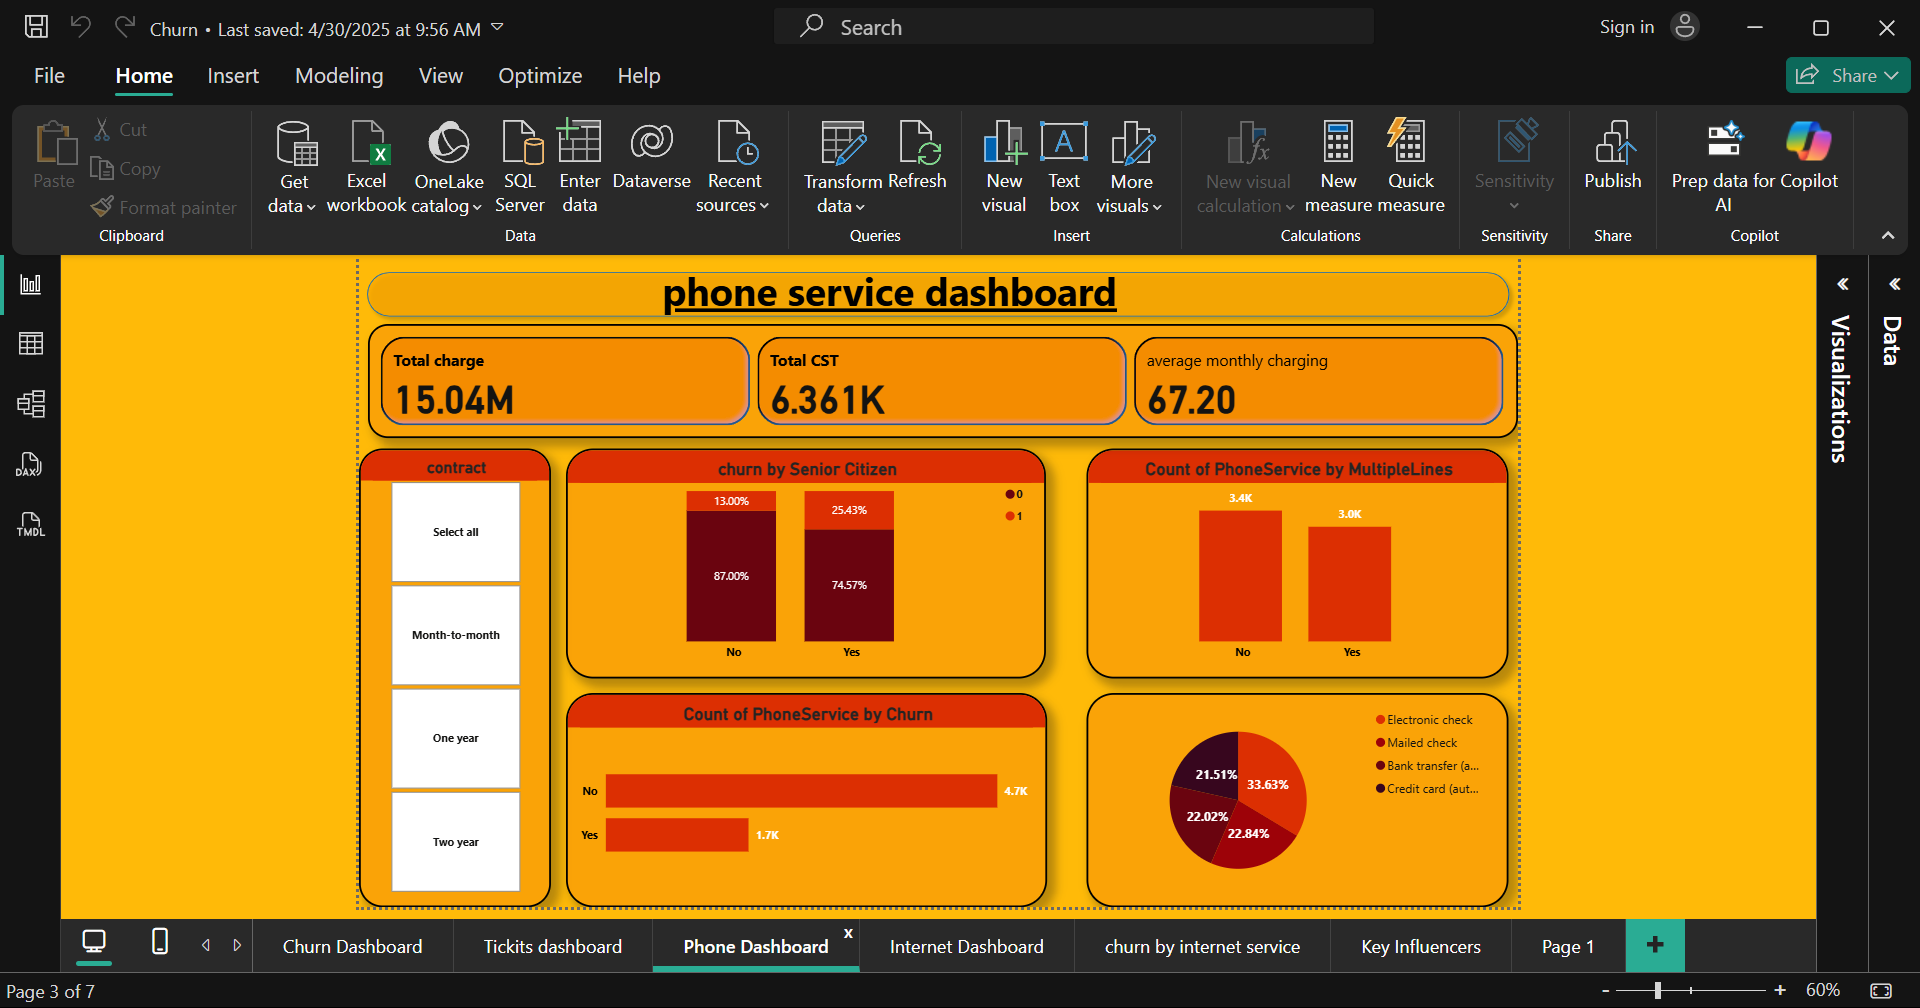

Layout of this report page (visuals, bound fields, positions):
{"tool":"powerbi","page":{"name":"Phone Dashboard","canvas":[1280,720],"ordinal":2},"visuals":[{"type":"clusteredColumnChart","fields":{"Category":["01 Churn-Dataset.MultipleLines"],"Y":["CountNonNull(01 Churn-Dataset.PhoneService)"]},"box":[804.2,213.5,466,254],"z":0},{"type":"pieChart","fields":{"Category":["01 Churn-Dataset.PaymentMethod"],"Y":["CountNonNull(01 Churn-Dataset.PhoneService)"]},"box":[804.2,483.1,466,236.9],"z":1000},{"type":"clusteredBarChart","fields":{"Category":["01 Churn-Dataset.Churn"],"Y":["CountNonNull(01 Churn-Dataset.PhoneService)"]},"box":[229.1,483.1,531.4,236.9],"z":2000},{"type":"shape","box":[0,9.4,1279.5,67],"z":3000},{"type":"cardVisual","fields":{"Data":["Sum(01 Churn-Dataset.TotalCharges)","Count(01 Churn-Dataset.customerID)","Avg(01 Churn-Dataset.MonthlyCharges)"]},"box":[9.4,76.4,1270.1,126.2],"z":4000},{"type":"textbox","box":[0,4.7,1171.9,71.7],"z":5000},{"type":"hundredPercentStackedColumnChart","title":"churn by Senior Citizen","fields":{"Category":["01 Churn-Dataset.Churn"],"Y":["CountNonNull(01 Churn-Dataset.SeniorCitizen)"],"Series":["01 Churn-Dataset.SeniorCitizen"]},"box":[229.1,213.5,529.9,254],"z":6000},{"type":"slicer","title":"contract","fields":{"Values":["01 Churn-Dataset.Contract"]},"box":[0,213.5,211.9,506.5],"z":7000}]}

Visuals, with their boxes on the page's 1280x720 design canvas (x1, y1, x2, y2). These are canvas units, not pixel positions in the 1920x1008 screenshot, which may show the page scaled, cropped or inside an application window:
clusteredColumnChart - 01 Churn-Dataset.MultipleLines x CountNonNull(01 Churn-Dataset.PhoneService): left=804, top=214, right=1270, bottom=468
pieChart - 01 Churn-Dataset.PaymentMethod x CountNonNull(01 Churn-Dataset.PhoneService): left=804, top=483, right=1270, bottom=720
clusteredBarChart - 01 Churn-Dataset.Churn x CountNonNull(01 Churn-Dataset.PhoneService): left=229, top=483, right=760, bottom=720
shape: left=0, top=9, right=1280, bottom=76
cardVisual - Sum(01 Churn-Dataset.TotalCharges) x Count(01 Churn-Dataset.customerID): left=9, top=76, right=1280, bottom=203
textbox: left=0, top=5, right=1172, bottom=76
"churn by Senior Citizen" hundredPercentStackedColumnChart: left=229, top=214, right=759, bottom=468
"contract" slicer: left=0, top=214, right=212, bottom=720
